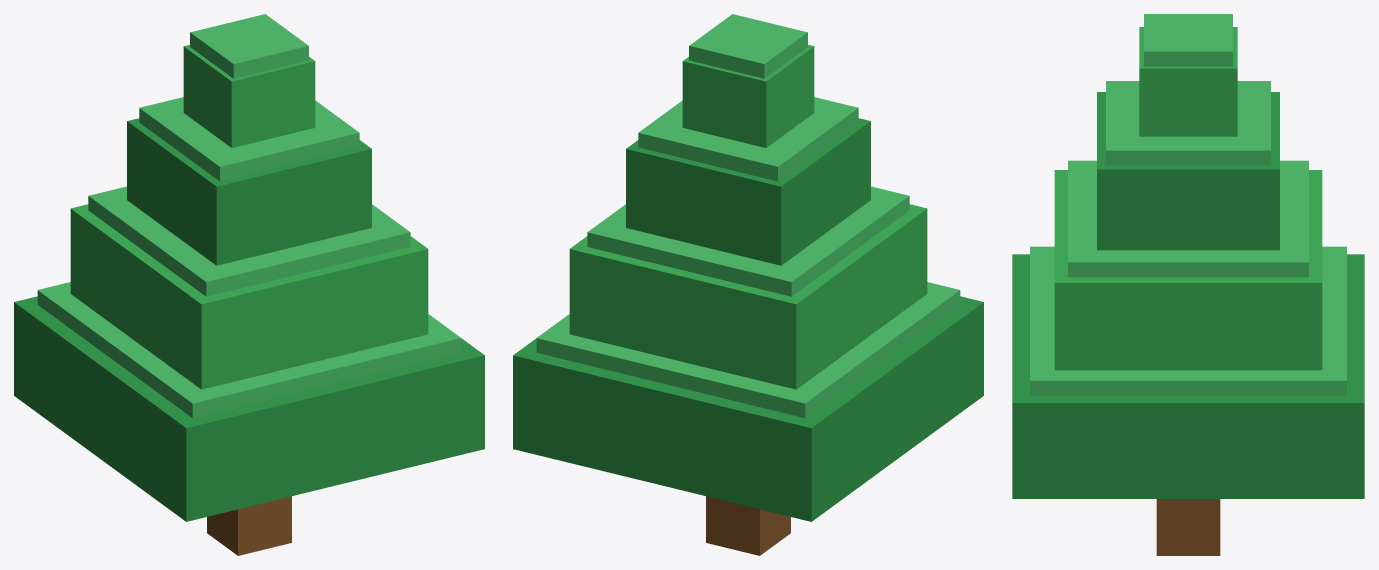
Rendered from tree_pine.fbx.
3 views of the same model, side by side, from view 1: azimuth 30°, elevation 25°; view 2: azimuth 150°, elevation 25°; view 3: azimuth 270°, elevation 25° (orthographic). The views are drawn at different scales.
Parts seen in each view (by area): view 1: Cube.001, Cube.003, Cube.005, Cube.002, Cube.004, Cube.007, Cube.006, Cube.008, Cube; view 2: Cube.001, Cube.003, Cube.005, Cube.002, Cube.004, Cube.007, Cube.006, Cube.008, Cube; view 3: Cube.001, Cube.003, Cube.005, Cube.002, Cube.004, Cube.006, Cube.007, Cube.008, Cube.
Boxes of the visible parts, x1,y1,x2,y2 form: Cube.001: [14, 296, 484, 521]; Cube.003: [70, 204, 428, 389]; Cube.005: [127, 118, 371, 265]; Cube.002: [37, 282, 461, 417]; Cube.004: [88, 186, 410, 296]; Cube.007: [183, 45, 315, 147]; Cube.006: [139, 97, 359, 181]; Cube.008: [190, 14, 308, 78]; Cube: [207, 496, 291, 555]; Cube.001: [513, 296, 983, 521]; Cube.003: [569, 204, 927, 389]; Cube.005: [626, 118, 870, 265]; Cube.002: [536, 282, 960, 417]; Cube.004: [587, 186, 909, 296]; Cube.007: [682, 45, 814, 147]; Cube.006: [638, 97, 858, 181]; Cube.008: [689, 14, 807, 78]; Cube: [706, 496, 790, 555]; Cube.001: [1012, 254, 1364, 498]; Cube.003: [1054, 170, 1322, 370]; Cube.005: [1097, 92, 1279, 250]; Cube.002: [1030, 246, 1346, 395]; Cube.004: [1068, 160, 1308, 277]; Cube.006: [1106, 81, 1270, 165]; Cube.007: [1139, 27, 1237, 136]; Cube.008: [1144, 14, 1232, 66]; Cube: [1156, 499, 1220, 555].
Size of the model in its own units: 5 by 7.99 by 5.
